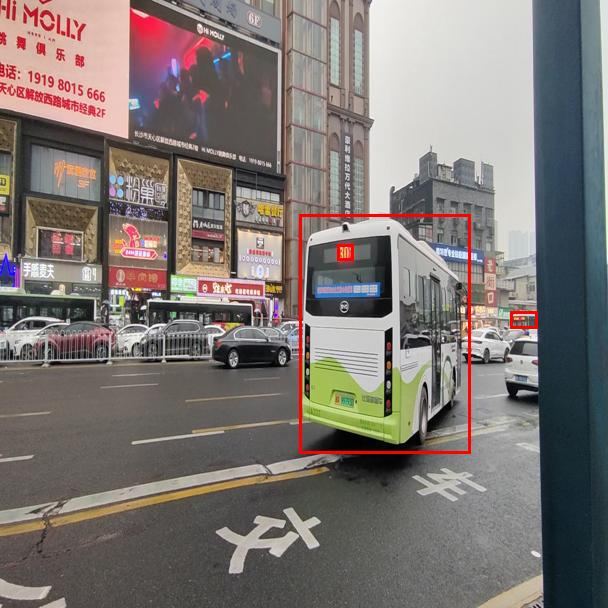bus: (299, 214, 470, 453), (510, 311, 537, 328)
screen: (337, 244, 353, 260)
